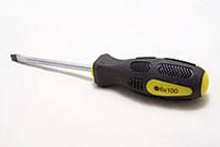Screwdriver: (8, 46, 211, 106)
